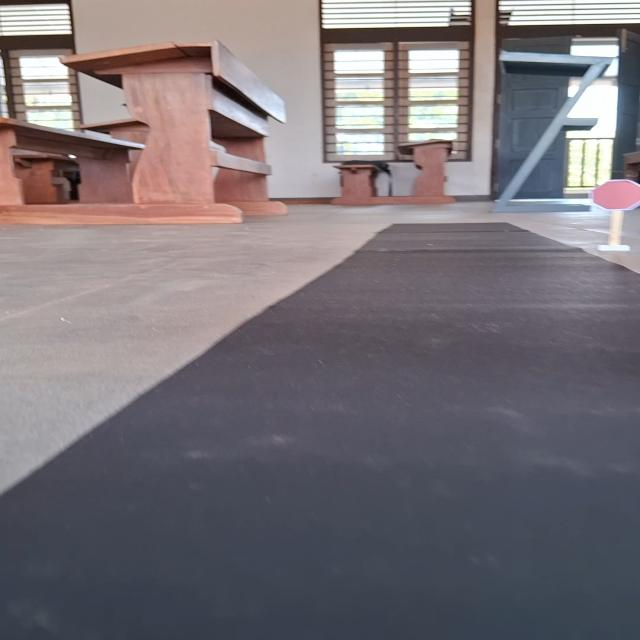Stop: (585, 178, 640, 211)
